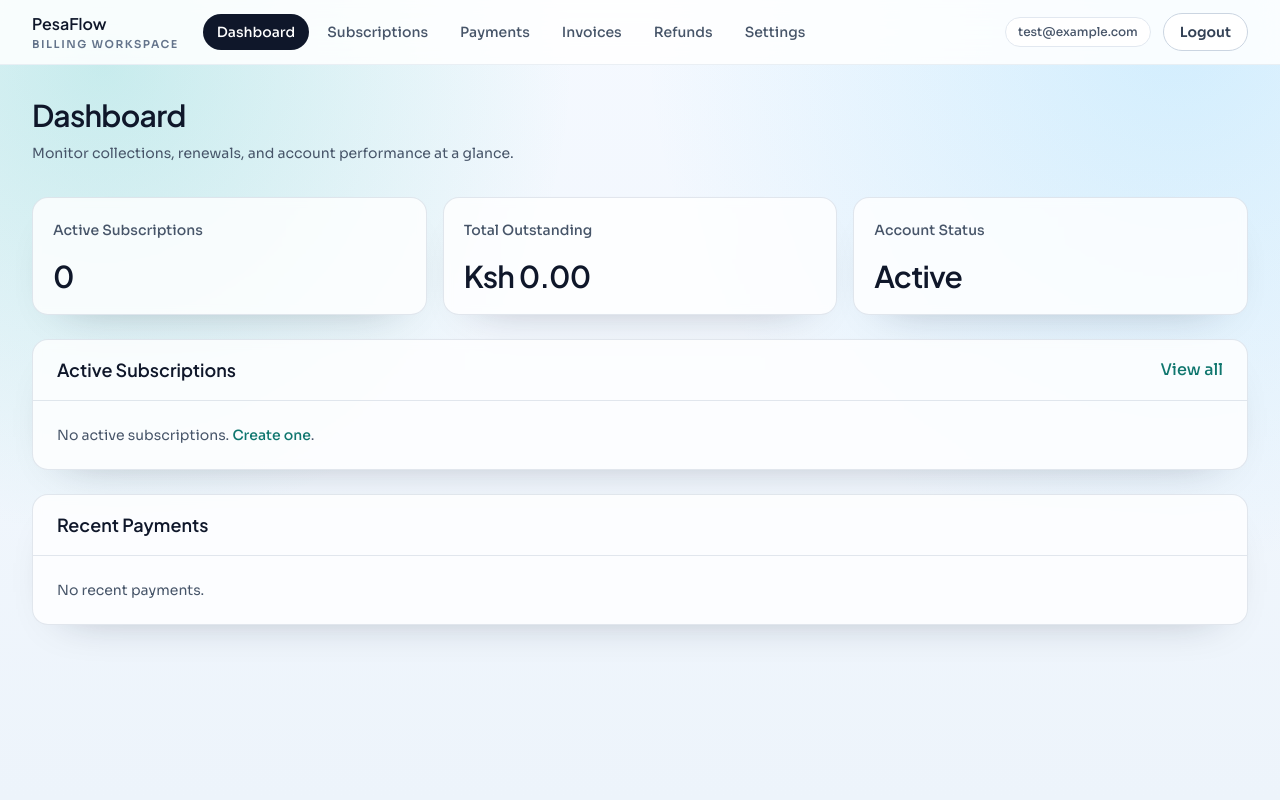
Test: DashboardPage › should show loading state during logout
expect the heading "Dashboard" is shown: met, box left=32, top=96, right=186, bottom=134
Step 1. Click the button "Logout" → (1205, 32), box left=1163, top=13, right=1248, bottom=51
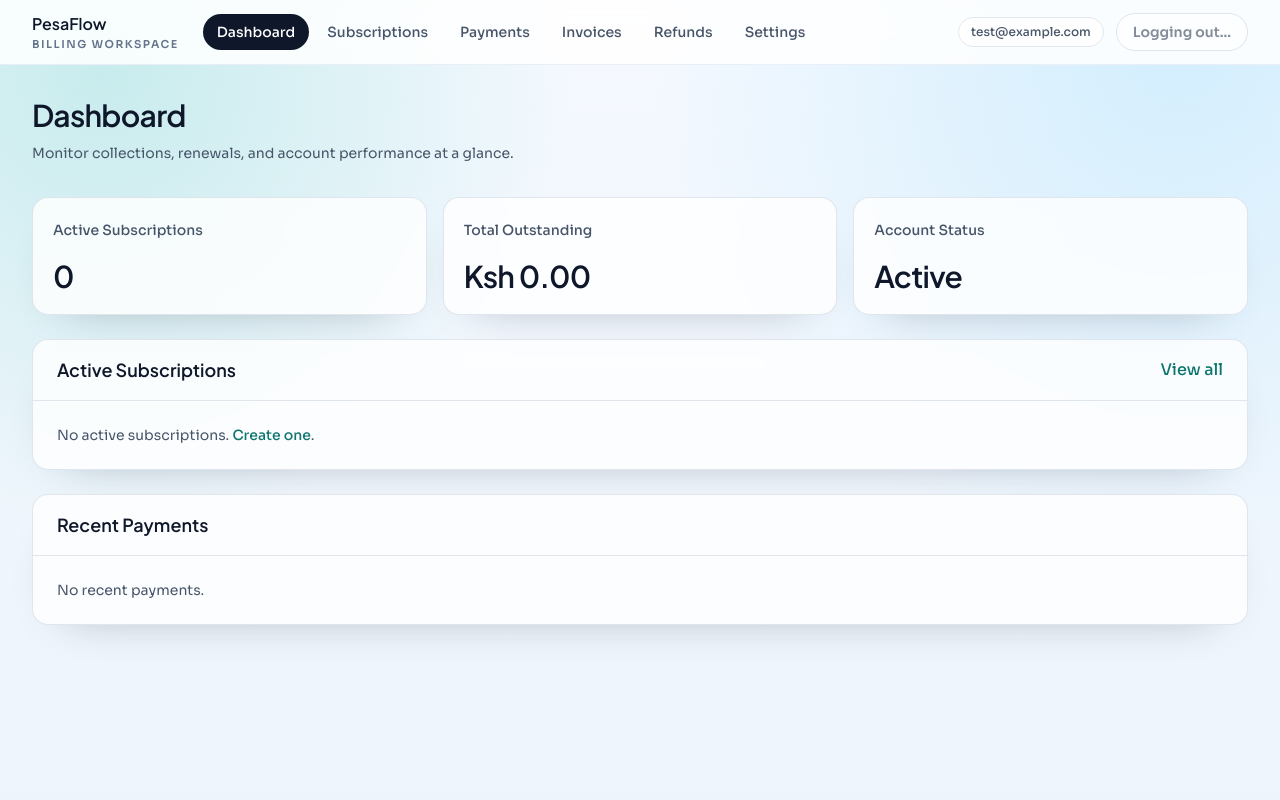
expect the button "Logging out..." is disabled: met, box left=1116, top=13, right=1248, bottom=51
